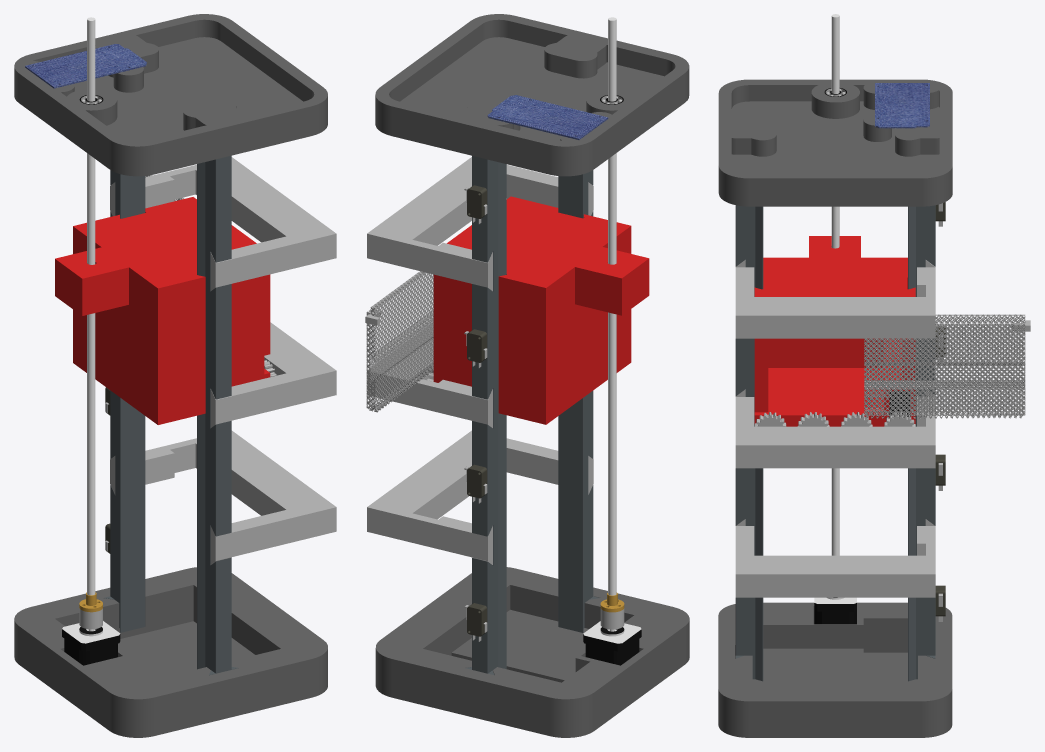
Rendered from finalelevator.glb.
The picture shows the model from 3 angles, left to right: view 1: azimuth 30°, elevation 25°; view 2: azimuth 150°, elevation 25°; view 3: azimuth 270°, elevation 25°; orthographic projection. The views are drawn at different scales.
Parts seen in each view (by area): view 1: Roof, Base, Lift, Floors (×3), Rails, Solid1 (×2), Solid7; view 2: Roof, Base, Lift, Floors (×3), Rails, Solid1 (×7), Solid7; view 3: Floors (×3), Base, Roof, Solid1 (×3), Lift, Rails, Solid7.
Boxes of the visible parts, box(x1,y1,x2,y2) form: Roof: box(14, 14, 327, 176); Base: box(14, 567, 327, 737); Lift: box(55, 197, 270, 424); Floors (×3): box(110, 157, 336, 564); Rails: box(104, 155, 238, 675); Solid1 (×2): box(62, 17, 120, 665); Solid7: box(25, 44, 146, 88); Roof: box(375, 14, 689, 176); Base: box(375, 567, 689, 737); Lift: box(433, 196, 649, 424); Floors (×3): box(367, 157, 593, 564); Rails: box(465, 156, 599, 675); Solid1 (×7): box(366, 17, 641, 665); Solid7: box(487, 95, 608, 139); Floors (×3): box(735, 260, 935, 597); Base: box(718, 602, 952, 737); Roof: box(718, 79, 952, 206); Solid1 (×3): box(814, 14, 1025, 624); Lift: box(754, 236, 915, 426); Rails: box(735, 205, 935, 681); Solid7: box(875, 83, 929, 128).
Size of the model in its own units: 0.2347 by 0.6856 by 0.3051.
12 materials, 2 textured.
